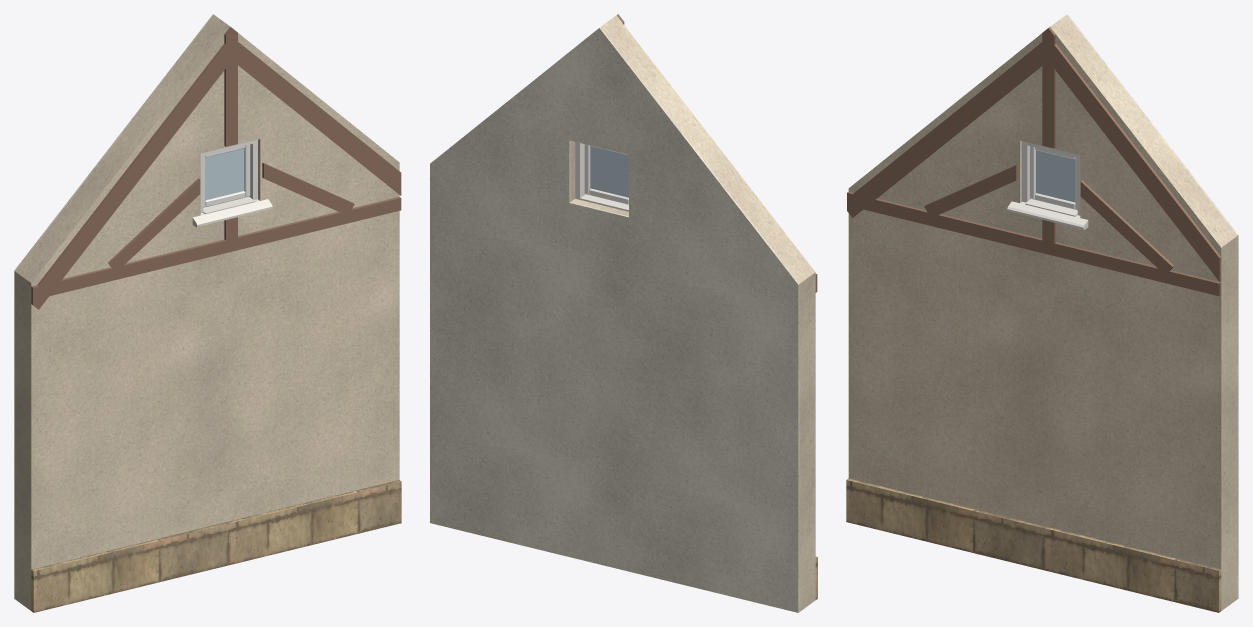
The model's file is garage_gable_back.glb.
3 views of the same model, side by side, from view 1: azimuth 30°, elevation 25°; view 2: azimuth 150°, elevation 25°; view 3: azimuth 330°, elevation 25° (orthographic).
Parts seen in each view (by area): view 1: garage_gable_back_render, garage_gable_back_timber, garage_gable_back_stone2, garage_gable_back_glass, garage_gable_back_plaster, garage_gable_back_trim, garage_gable_back_sash, garage_gable_back_frame; view 2: garage_gable_back_plaster, garage_gable_back_render, garage_gable_back_glass, garage_gable_back_sash, garage_gable_back_frame; view 3: garage_gable_back_render, garage_gable_back_timber, garage_gable_back_stone2, garage_gable_back_glass, garage_gable_back_trim, garage_gable_back_plaster, garage_gable_back_sash, garage_gable_back_frame.
Boxes of the visible parts, <box> form: garage_gable_back_render: <box>15,15,399,610</box>; garage_gable_back_timber: <box>31,27,401,309</box>; garage_gable_back_stone2: <box>31,480,401,612</box>; garage_gable_back_glass: <box>205,148,244,200</box>; garage_gable_back_plaster: <box>14,14,213,598</box>; garage_gable_back_trim: <box>192,197,272,227</box>; garage_gable_back_sash: <box>203,144,250,207</box>; garage_gable_back_frame: <box>200,139,257,212</box>; garage_gable_back_plaster: <box>430,27,799,612</box>; garage_gable_back_render: <box>570,15,815,611</box>; garage_gable_back_glass: <box>590,146,628,197</box>; garage_gable_back_sash: <box>584,144,628,204</box>; garage_gable_back_frame: <box>575,142,585,199</box>; garage_gable_back_render: <box>848,15,1237,610</box>; garage_gable_back_timber: <box>847,27,1221,296</box>; garage_gable_back_stone2: <box>846,478,1221,612</box>; garage_gable_back_glass: <box>1036,150,1075,202</box>; garage_gable_back_trim: <box>1007,199,1088,229</box>; garage_gable_back_plaster: <box>1066,14,1238,598</box>; garage_gable_back_sash: <box>1030,146,1077,210</box>; garage_gable_back_frame: <box>1022,141,1080,215</box>.
Size of the model in its own units: 3.7 by 5.15 by 0.38.
Materials: 8 (3 with a texture image).
